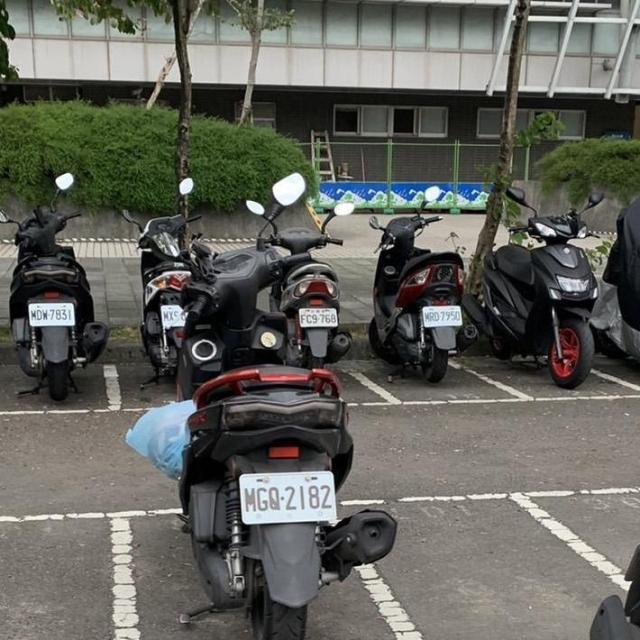W: (231, 468, 343, 528), (23, 298, 81, 330), (291, 302, 343, 333), (415, 301, 467, 331), (151, 301, 193, 332)
